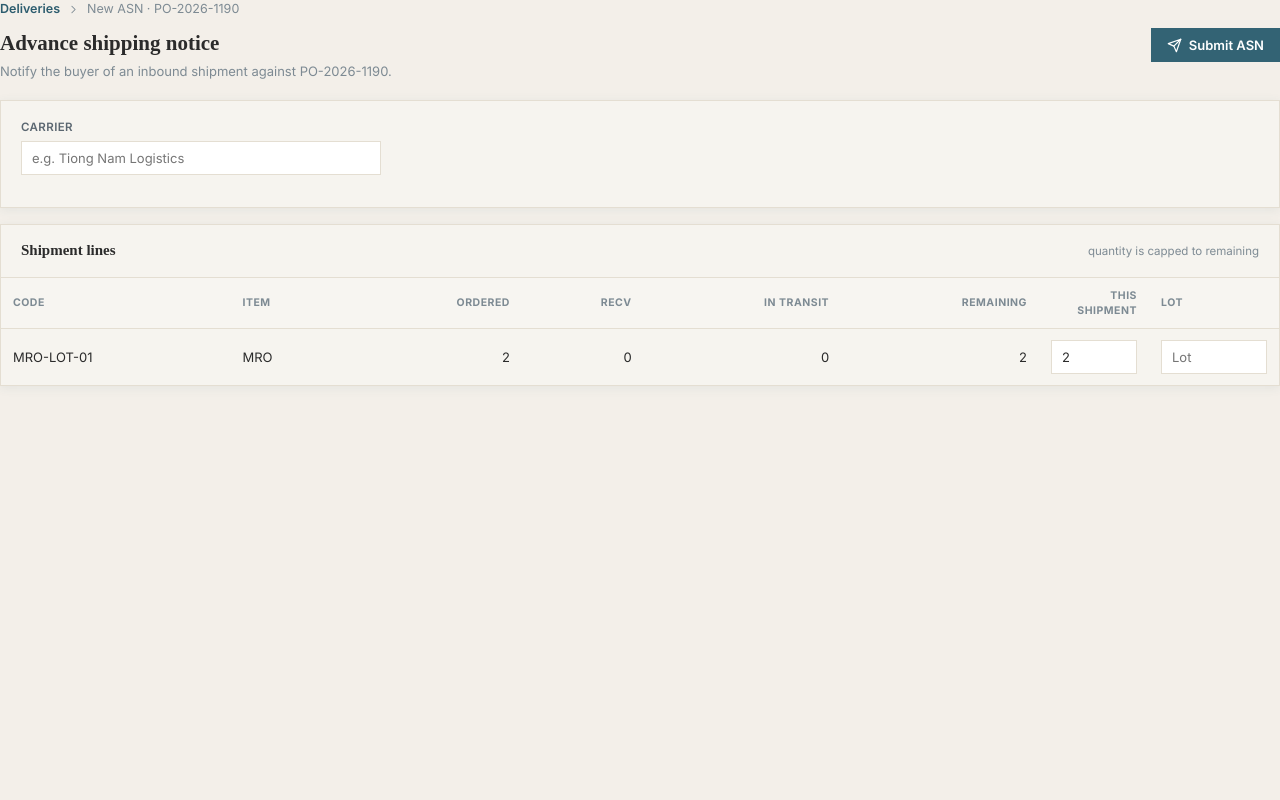
Test case: Delivery screens › shows a success panel with the new ASN code after submitting (no immediate navigation)
What coordinates should you click on to do the following:
click the button "Submit ASN"
I would click on:
 (1215, 45)
Its box is [1151,28,1279,62].
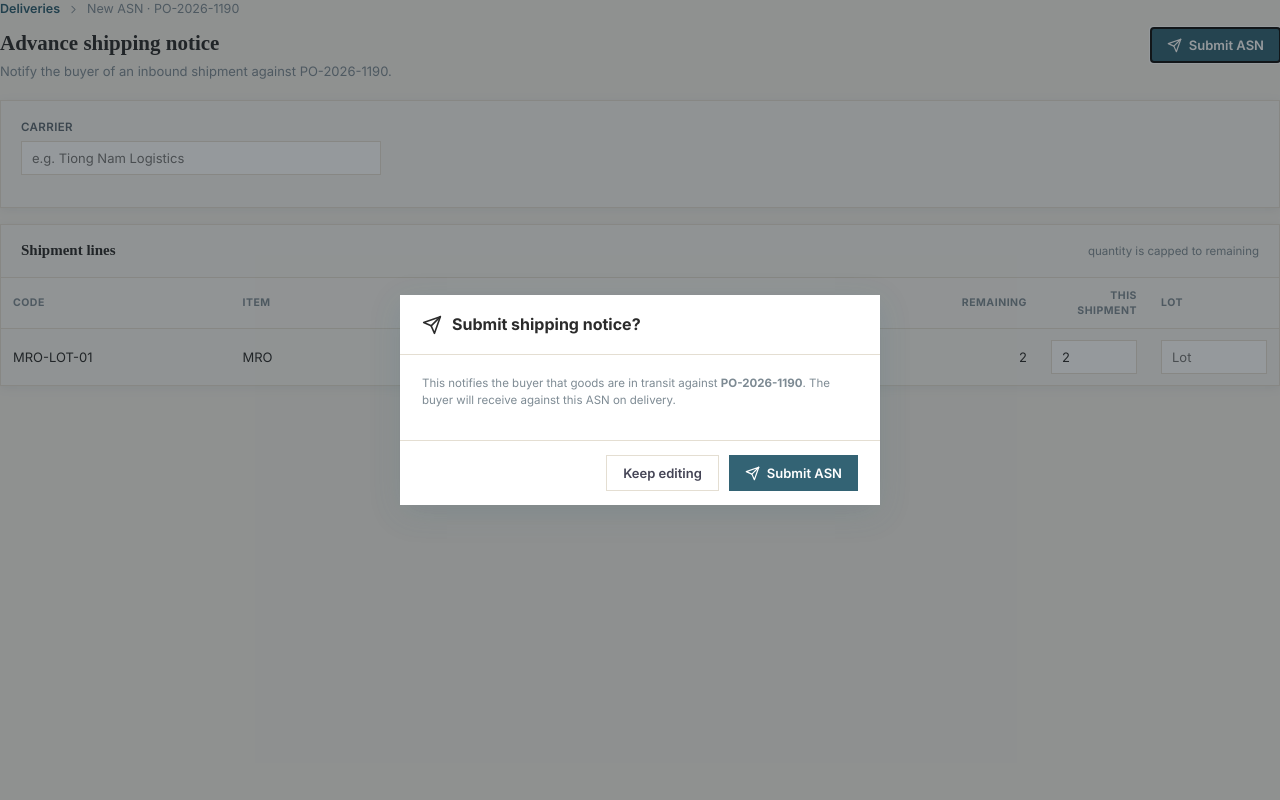
What coordinates should you click on to do the following:
click the button "Submit ASN"
I would click on:
 (793, 473)
Its box is [729,455,858,491].
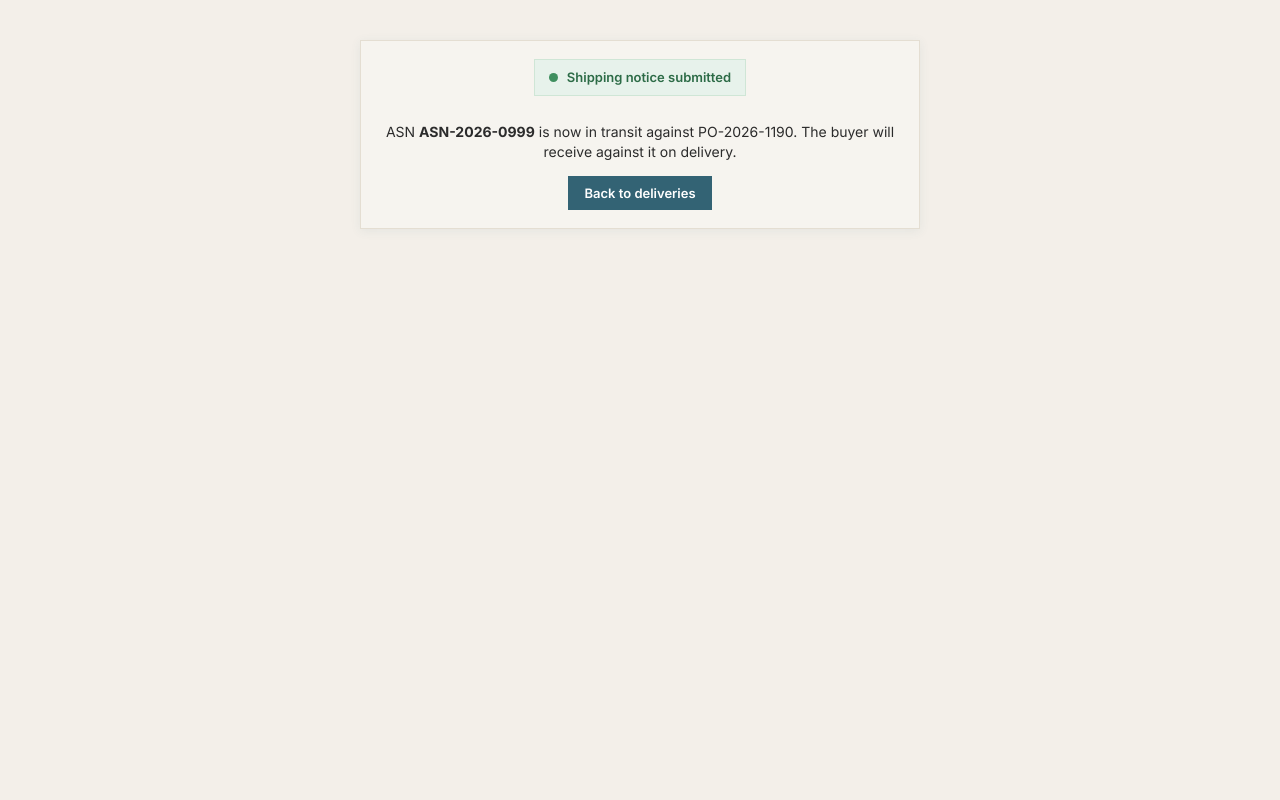
Check: the text "Shipping notice submitted" is shown, box [534,59,746,96]
Check: the text "ASN-2026-0999" is shown, box [419,123,535,140]
